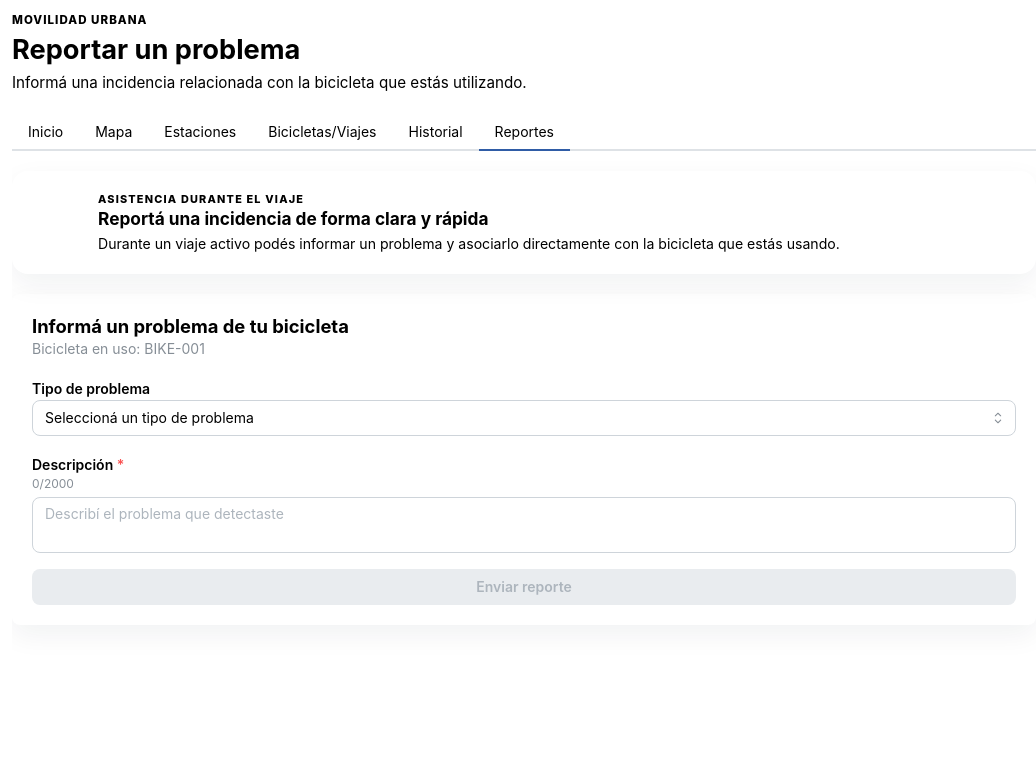
ReportsPage › mantiene el formulario usable si el backend rechaza el reporte
Select "Pinchazo" in the dropdown labelled "Tipo de problema" at x=524, y=418, box [32,400,1016,436]
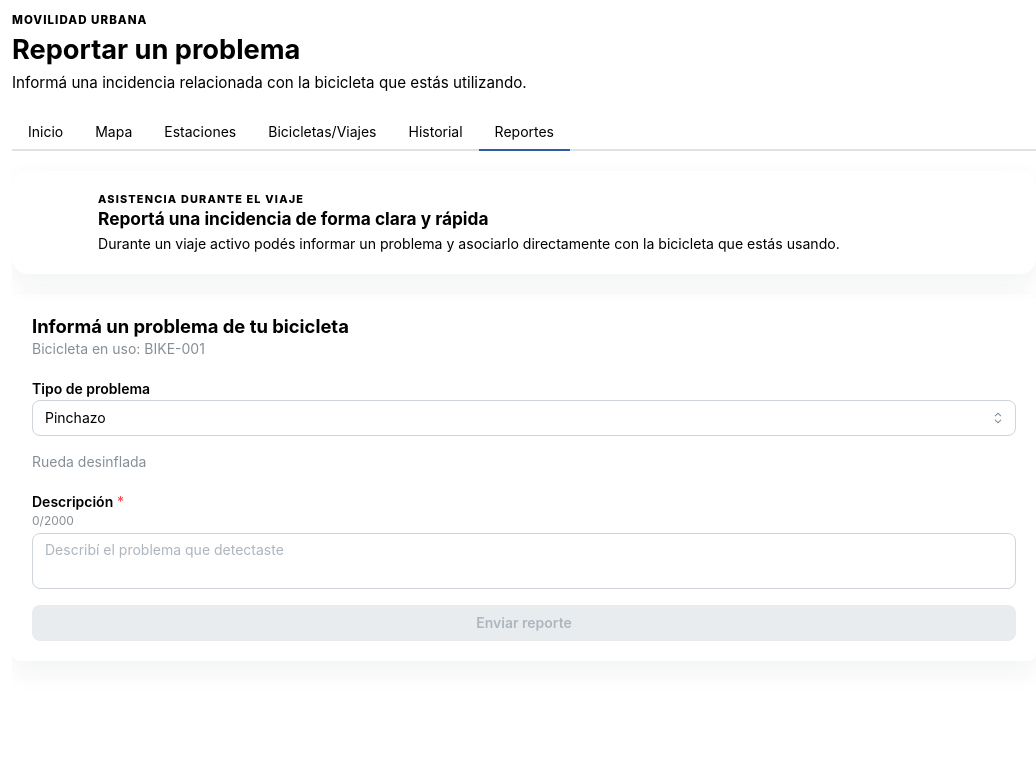
Type "Rueda desinflada" into the text box labelled "Descripción" at x=524, y=561, box [32,533,1016,589]
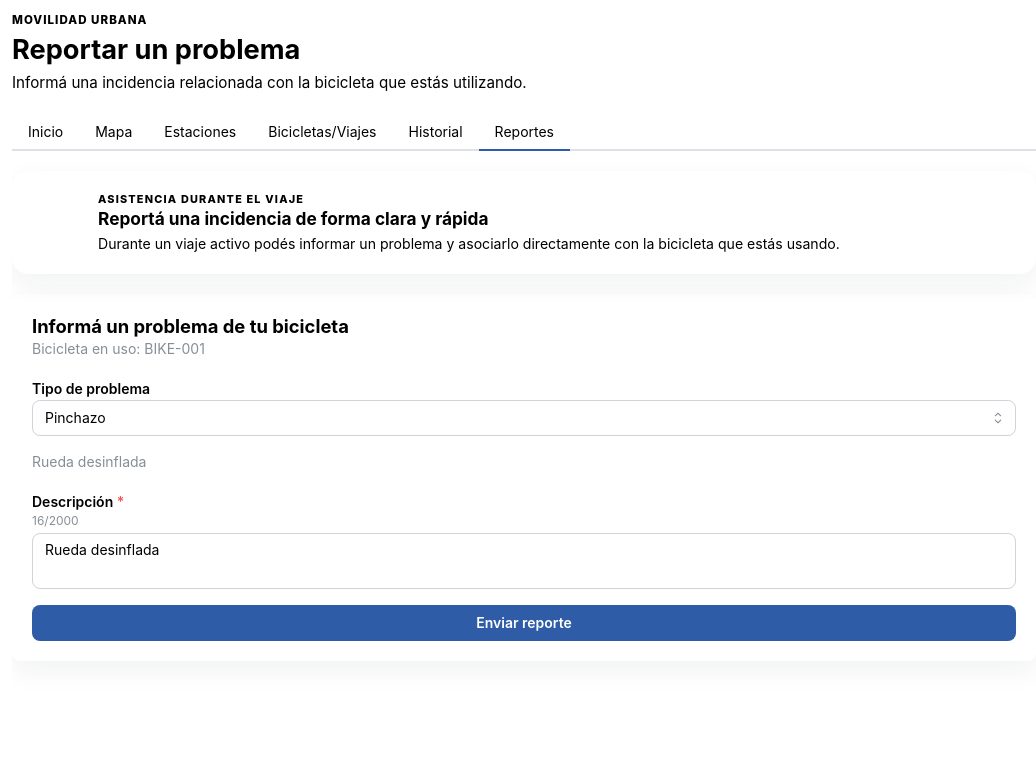
Click the button "Enviar reporte" at x=524, y=623, box [32,605,1016,641]
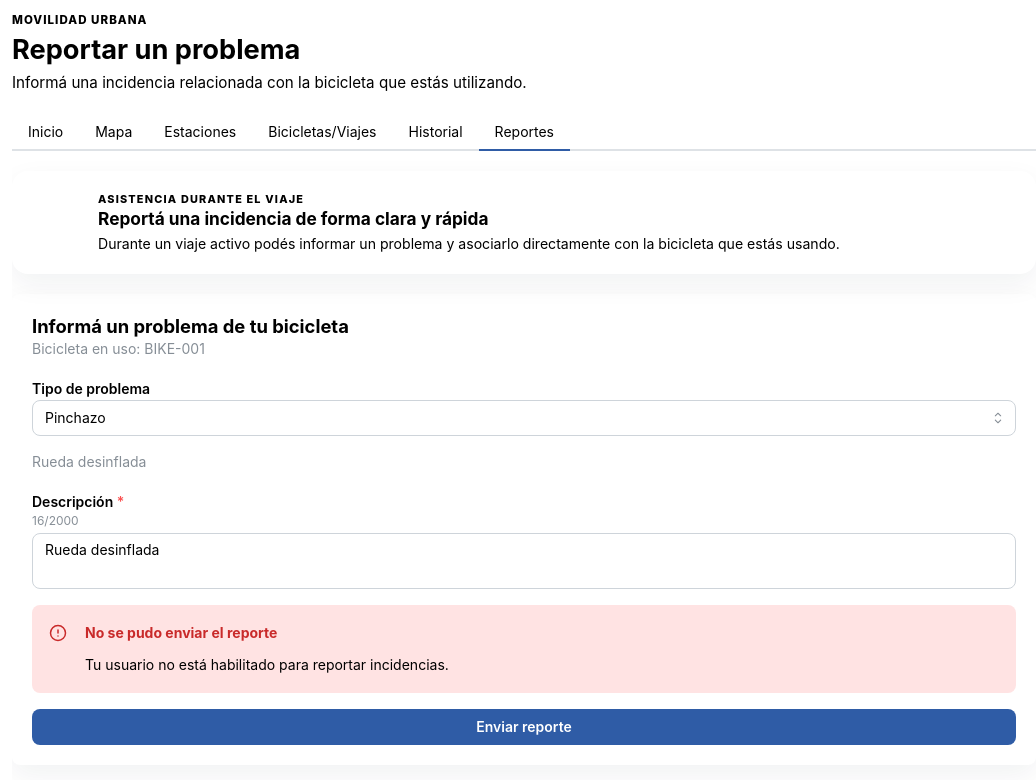
Now the button "Enviar reporte" is enabled, box [32,709,1016,745]
Now the text "Tu usuario no está habilitado para reportar incidencias." is shown, box [85,656,449,673]
